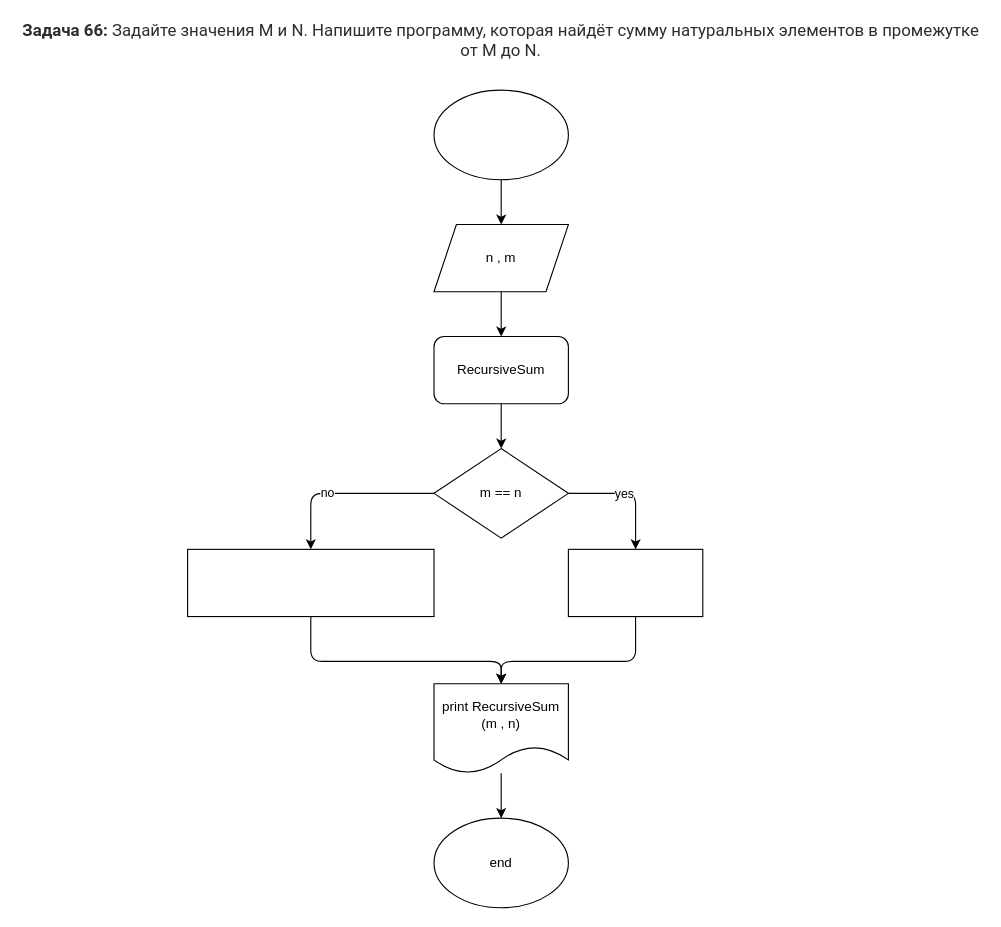
This 1001x927 diagram has some shape labels left out. Each missing label, with the centre of its shape:
return m: point 635,582
return n + RecursiveSum(m, n - 1): point 310,582
start: point 500,134
